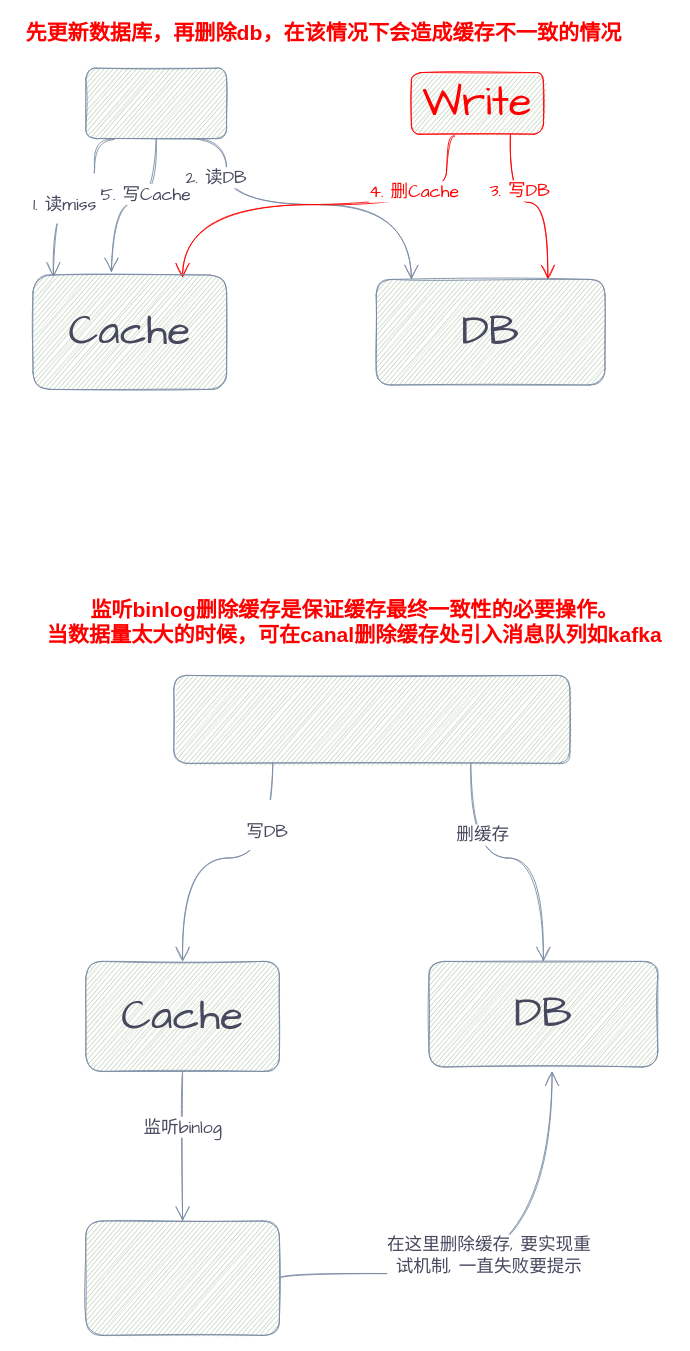
Some shapes in this 690 by 1351 pixel diagram are drawn without their labels. Here are the shapes that lost their labels. From the top down, the centre of each, then its label:
At point (156, 103): "Read".
At point (371, 719): "server".
At point (182, 1277): "Cancl".
